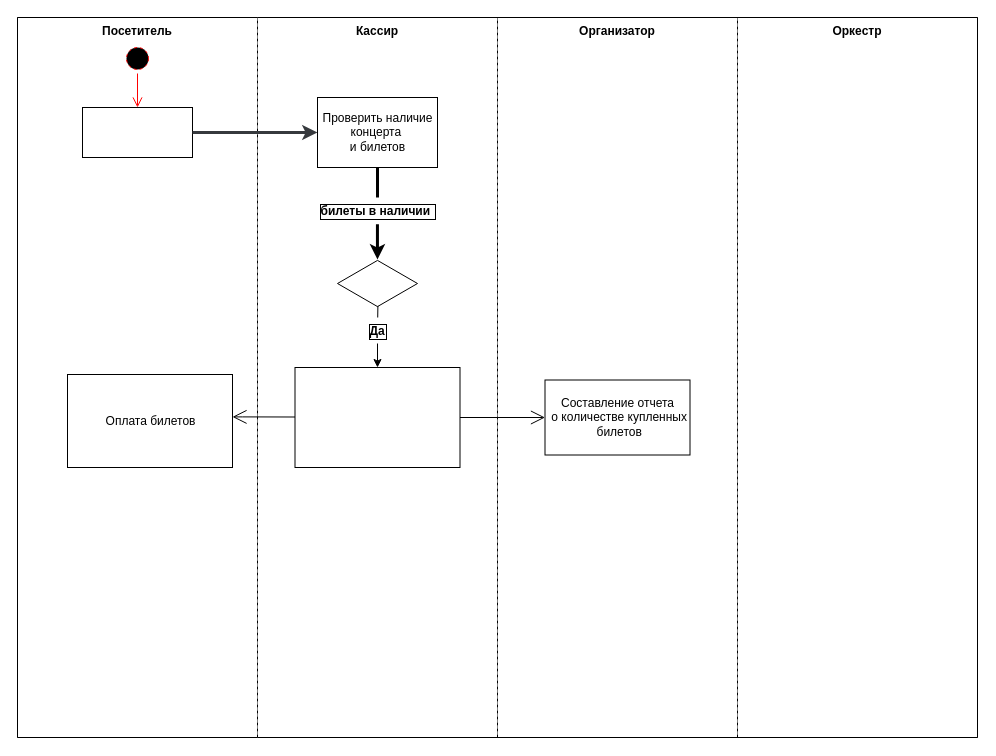
The diagram is 996 pixels wide and 756 high, and some of its shapes have lost their labels. The shapes that lost their labels are listed below. From the top down, each one's centre as x and y in pixels, then its label:
At [137,132]: "Выбор концерта".
At [377,417]: "Оформление билетов".
